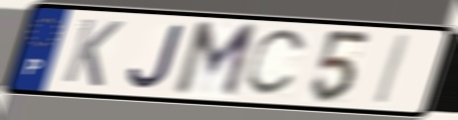5: (306, 27, 376, 106)
C: (241, 28, 311, 100)
I: (370, 33, 415, 108)
J: (125, 21, 189, 92)
K: (59, 15, 126, 89)
M: (169, 20, 261, 101)
